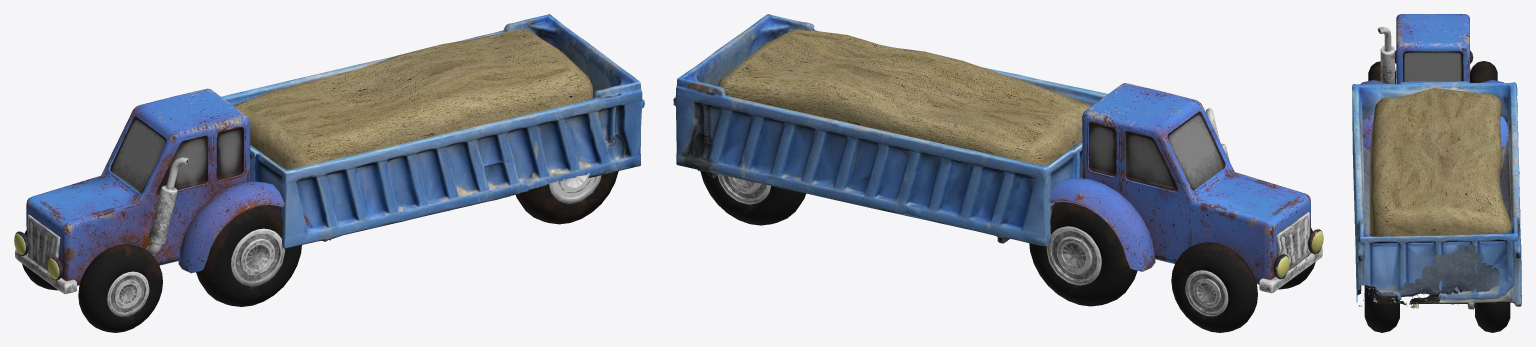
Rendered from Tractor.glb.
3 renders of one model, left to right at view 1: azimuth 30°, elevation 25°; view 2: azimuth 150°, elevation 25°; view 3: azimuth 270°, elevation 25°, orthographic. The views are drawn at different scales.
Parts seen in each view (by area): view 1: Trailer, Car, Dirt, Front Wheels, Back Wheel.1; view 2: Trailer, Car, Dirt, Front Wheels, Back Wheel; view 3: Dirt, Trailer, Car, Back Wheel.1, Back Wheel, Front Wheels.
Boxes of the visible parts, bbox=[...] form: Trailer: bbox=[221, 14, 644, 248]; Car: bbox=[14, 88, 313, 294]; Dirt: bbox=[233, 29, 592, 169]; Front Wheels: bbox=[22, 205, 301, 332]; Back Wheel.1: bbox=[516, 171, 618, 224]; Trailer: bbox=[673, 14, 1107, 246]; Car: bbox=[1049, 83, 1323, 293]; Dirt: bbox=[717, 29, 1090, 165]; Front Wheels: bbox=[1029, 202, 1315, 332]; Back Wheel: bbox=[700, 171, 805, 225]; Dirt: bbox=[1369, 88, 1511, 236]; Trailer: bbox=[1352, 81, 1521, 309]; Car: bbox=[1360, 14, 1508, 152]; Back Wheel.1: bbox=[1364, 234, 1399, 332]; Back Wheel: bbox=[1475, 302, 1510, 332]; Front Wheels: bbox=[1368, 61, 1497, 84].
Bounding box in the file's own units: 397 × 117 × 118.
3 materials, 3 textured.
